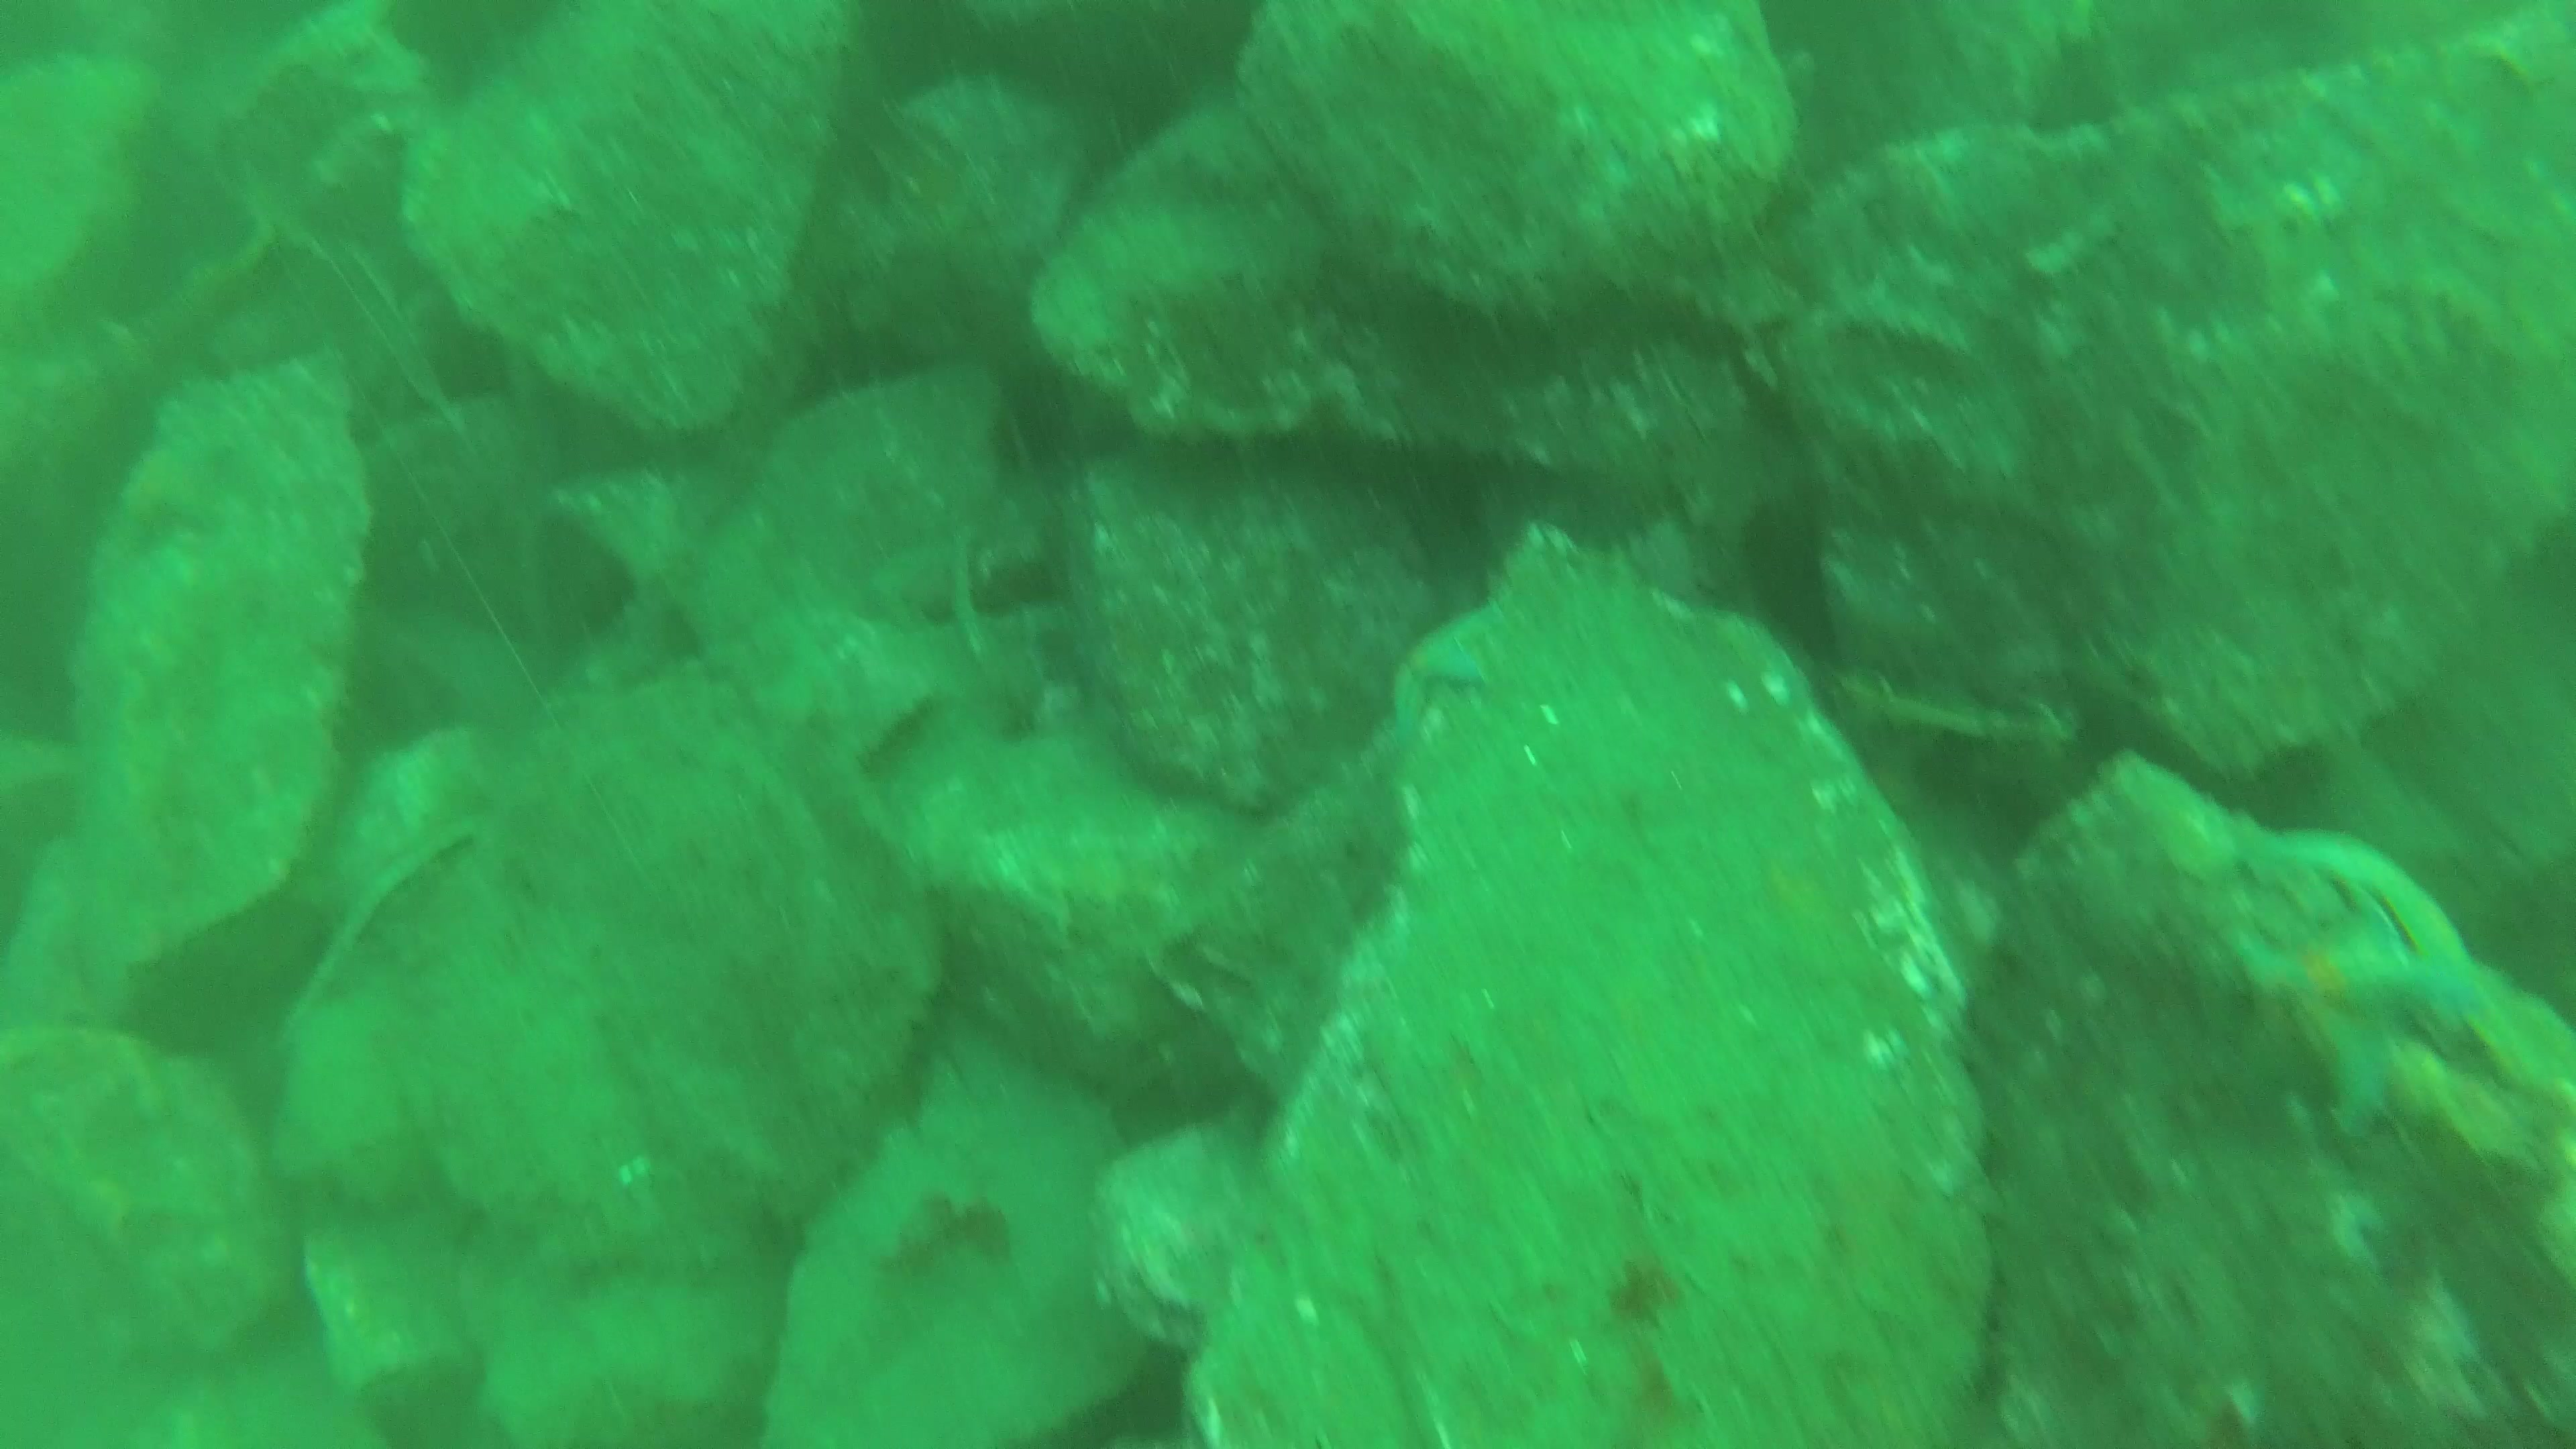starfish: (2203, 892, 2493, 1152), (1382, 593, 1495, 755)
